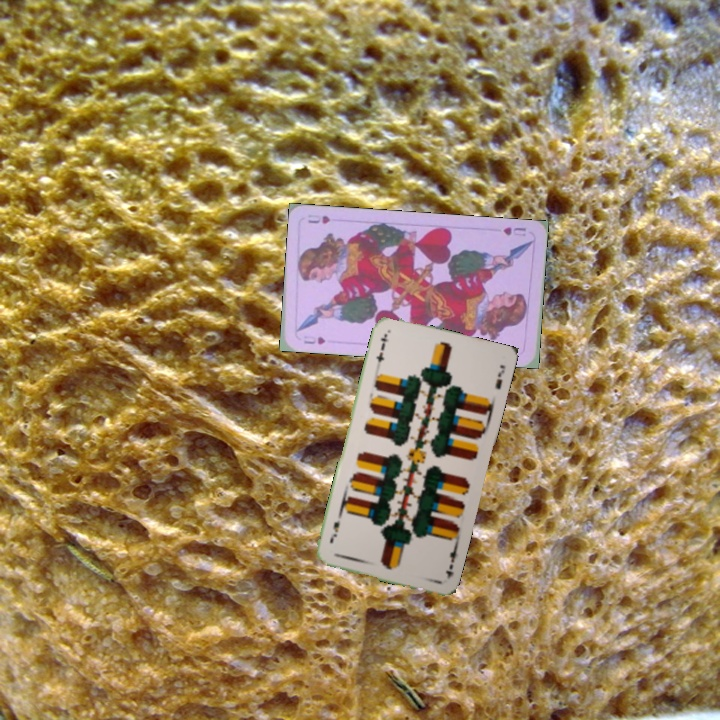E7: (442, 542, 460, 582), (372, 329, 391, 365)
HU: (499, 223, 528, 239), (300, 331, 328, 347)
